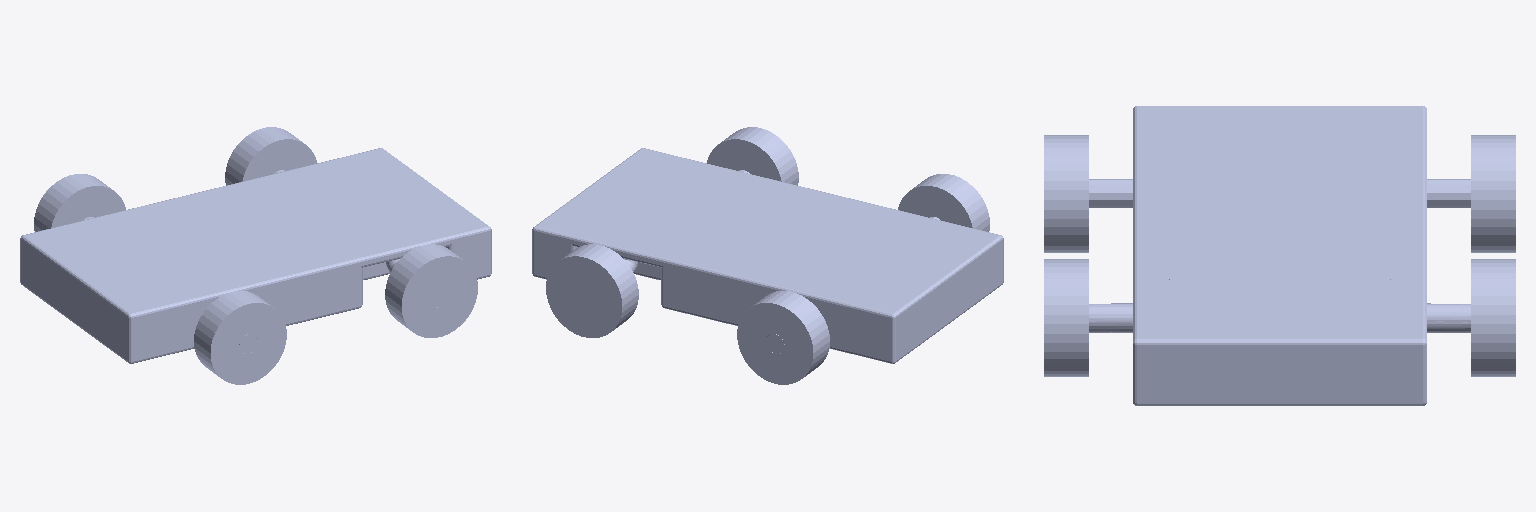
The robot description file, URDF, robot "robot_fourwheel":
<?xml version="1.0" encoding="utf-8"?>
<!-- This URDF was automatically created by SolidWorks to URDF Exporter! Originally created by [author] ([email redacted]) 
     Commit Version: 1.6.0-1-g15f4949  Build Version: 1.6.7594.29634
     For more information, please see http://wiki.ros.org/sw_urdf_exporter -->
<robot
  name="robot_fourwheel">

  <link name="dummy_link" />

  <joint name="dummy_link_joint" type="fixed">
    <parent link="dummy_link"/>
    <child link="base_link"/>
  </joint>
  <link
    name="base_link">
    <inertial>
      <origin
        xyz="0.0156756822833727 1.27707395769505E-08 0.0647698229985954"
        rpy="0 0 0" />
      <mass
        value="55.149112811909" />
      <inertia
        ixx="1.16284846332362"
        ixy="-2.7020450595447E-07"
        ixz="-0.0193921136203055"
        iyy="4.39098958696797"
        iyz="4.60720047587546E-08"
        izz="5.4001751110785" />
    </inertial>
    <visual>
      <origin
        xyz="0 0 0"
        rpy="0 0 0" />
      <geometry>
        <mesh
          filename="package://robot_fourwheel/meshes/base_link.STL" />
      </geometry>
      <material
        name="">
        <color
          rgba="0.792156862745098 0.819607843137255 0.933333333333333 1" />
      </material>
    </visual>
    <collision>
      <origin
        xyz="0 0 0"
        rpy="0 0 0" />
      <geometry>
        <mesh
          filename="package://robot_fourwheel/meshes/base_link.STL" />
      </geometry>
    </collision>
  </link>
  <link
    name="ra">
    <inertial>
      <origin
        xyz="1.1102E-16 -5.5511E-17 1.3878E-17"
        rpy="0 0 0" />
      <mass
        value="1.6474" />
      <inertia
        ixx="0.090962"
        ixy="3.1958E-16"
        ixz="-1.1648E-49"
        iyy="0.00053142"
        iyz="3.2863E-35"
        izz="0.090962" />
    </inertial>
    <visual>
      <origin
        xyz="0 0 0"
        rpy="0 0 0" />
      <geometry>
        <mesh
          filename="package://robot_fourwheel/meshes/ra.STL" />
      </geometry>
      <material
        name="">
        <color
          rgba="0.79216 0.81961 0.93333 1" />
      </material>
    </visual>
    <collision>
      <origin
        xyz="0 0 0"
        rpy="0 0 0" />
      <geometry>
        <mesh
          filename="package://robot_fourwheel/meshes/ra.STL" />
      </geometry>
    </collision>
  </link>
  <joint
    name="raj"
    type="continuous">
    <origin
      xyz="-0.21541 0 0.0635"
      rpy="0 0 0" />
    <parent
      link="base_link" />
    <child
      link="ra" />
    <axis
      xyz="0 -1 0" />
  </joint>
  <link
    name="rlw">
    <inertial>
      <origin
        xyz="1.1102E-16 -0.0381 0"
        rpy="0 0 0" />
      <mass
        value="2.3167" />
      <inertia
        ixx="0.0074731"
        ixy="-1.861E-17"
        ixz="-3.8054E-37"
        iyy="0.012704"
        iyz="1.964E-35"
        izz="0.0074731" />
    </inertial>
    <visual>
      <origin
        xyz="0 0 0"
        rpy="0 0 0" />
      <geometry>
        <mesh
          filename="package://robot_fourwheel/meshes/rlw.STL" />
      </geometry>
      <material
        name="">
        <color
          rgba="0.79216 0.81961 0.93333 1" />
      </material>
    </visual>
    <collision>
      <origin
        xyz="0 0 0"
        rpy="0 0 0" />
      <geometry>
        <mesh
          filename="package://robot_fourwheel/meshes/rlw.STL" />
      </geometry>
    </collision>
  </link>
  <joint
    name="rlwj"
    type="fixed">
    <origin
      xyz="0 0.4064 0"
      rpy="0 0 0" />
    <parent
      link="ra" />
    <child
      link="rlw" />
    <axis
      xyz="0 0 0" />
  </joint>
  <link
    name="rrw">
    <inertial>
      <origin
        xyz="-1.1102E-16 0.0381 1.3878E-17"
        rpy="0 0 0" />
      <mass
        value="2.3167" />
      <inertia
        ixx="0.0074731"
        ixy="-1.8619E-17"
        ixz="-3.8054E-37"
        iyy="0.012704"
        iyz="1.964E-35"
        izz="0.0074731" />
    </inertial>
    <visual>
      <origin
        xyz="0 0 0"
        rpy="0 0 0" />
      <geometry>
        <mesh
          filename="package://robot_fourwheel/meshes/rrw.STL" />
      </geometry>
      <material
        name="">
        <color
          rgba="0.79216 0.81961 0.93333 1" />
      </material>
    </visual>
    <collision>
      <origin
        xyz="0 0 0"
        rpy="0 0 0" />
      <geometry>
        <mesh
          filename="package://robot_fourwheel/meshes/rrw.STL" />
      </geometry>
    </collision>
  </link>
  <joint
    name="rrwj"
    type="fixed">
    <origin
      xyz="0 -0.4064 0"
      rpy="0 0 0" />
    <parent
      link="ra" />
    <child
      link="rrw" />
    <axis
      xyz="0 0 0" />
  </joint>
  <link
    name="fl">
    <inertial>
      <origin
        xyz="-5.5511E-17 0.080257 -0.05607"
        rpy="0 0 0" />
      <mass
        value="0.51846" />
      <inertia
        ixx="0.0025514"
        ixy="6.6174E-21"
        ixz="-1.6544E-21"
        iyy="0.00028983"
        iyz="0.00031095"
        izz="0.0024288" />
    </inertial>
    <visual>
      <origin
        xyz="0 0 0"
        rpy="0 0 0" />
      <geometry>
        <mesh
          filename="package://robot_fourwheel/meshes/fl.STL" />
      </geometry>
      <material
        name="">
        <color
          rgba="0.79216 0.81961 0.93333 1" />
      </material>
    </visual>
    <collision>
      <origin
        xyz="0 0 0"
        rpy="0 0 0" />
      <geometry>
        <mesh
          filename="package://robot_fourwheel/meshes/fl.STL" />
      </geometry>
    </collision>
  </link>
  <joint
    name="flj"
    type="continuous">
    <origin
      xyz="0.29259 0.2032 0.127"
      rpy="0 0 0" />
    <parent
      link="base_link" />
    <child
      link="fl" />
    <axis
      xyz="0 0 1" />
    <!-- <limit
      lower="-0.5"
      upper="0.5"
      effort="0"
      velocity="0" /> -->
  </joint>
  <link
    name="flw">
    <inertial>
      <origin
        xyz="1.3878E-16 -0.0381 1.3878E-17"
        rpy="0 0 0" />
      <mass
        value="2.3167" />
      <inertia
        ixx="0.0074731"
        ixy="-1.8094E-17"
        ixz="-3.8054E-37"
        iyy="0.012704"
        iyz="1.964E-35"
        izz="0.0074731" />
    </inertial>
    <visual>
      <origin
        xyz="0 0 0"
        rpy="0 0 0" />
      <geometry>
        <mesh
          filename="package://robot_fourwheel/meshes/flw.STL" />
      </geometry>
      <material
        name="">
        <color
          rgba="0.79216 0.81961 0.93333 1" />
      </material>
    </visual>
    <collision>
      <origin
        xyz="0 0 0"
        rpy="0 0 0" />
      <geometry>
        <mesh
          filename="package://robot_fourwheel/meshes/flw.STL" />
      </geometry>
    </collision>
  </link>
  <joint
    name="flwj"
    type="continuous">
    <origin
      xyz="0 0.2032 -0.0635"
      rpy="0 0 0" />
    <parent
      link="fl" />
    <child
      link="flw" />
    <axis
      xyz="0 -1 0" />
  </joint>
  <link
    name="fr">
    <inertial>
      <origin
        xyz="-5.8287E-16 -0.080257 -0.05607"
        rpy="0 0 0" />
      <mass
        value="0.51846" />
      <inertia
        ixx="0.0025514"
        ixy="-1.5753E-17"
        ixz="-2.1429E-18"
        iyy="0.00028983"
        iyz="-0.00031095"
        izz="0.0024288" />
    </inertial>
    <visual>
      <origin
        xyz="0 0 0"
        rpy="0 0 0" />
      <geometry>
        <mesh
          filename="package://robot_fourwheel/meshes/fr.STL" />
      </geometry>
      <material
        name="">
        <color
          rgba="0.79216 0.81961 0.93333 1" />
      </material>
    </visual>
    <collision>
      <origin
        xyz="0 0 0"
        rpy="0 0 0" />
      <geometry>
        <mesh
          filename="package://robot_fourwheel/meshes/fr.STL" />
      </geometry>
    </collision>
  </link>
  <joint
    name="frj"
    type="continuous">
    <origin
      xyz="0.29259 -0.2032 0.127"
      rpy="0 0 0" />
    <parent
      link="base_link" />
    <child
      link="fr" />
    <axis
      xyz="0 0 1" />
    <!-- <limit
      lower="-0.5"
      upper="0.5"
      effort="0"
      velocity="0" /> -->
  </joint>
  <link
    name="frw">
    <inertial>
      <origin
        xyz="-8.3267E-17 0.0381 -1.3878E-17"
        rpy="0 0 0" />
      <mass
        value="2.3167" />
      <inertia
        ixx="0.0074731"
        ixy="-1.8102E-17"
        ixz="-3.8054E-37"
        iyy="0.012704"
        iyz="1.964E-35"
        izz="0.0074731" />
    </inertial>
    <visual>
      <origin
        xyz="0 0 0"
        rpy="0 0 0" />
      <geometry>
        <mesh
          filename="package://robot_fourwheel/meshes/frw.STL" />
      </geometry>
      <material
        name="">
        <color
          rgba="0.79216 0.81961 0.93333 1" />
      </material>
    </visual>
    <collision>
      <origin
        xyz="0 0 0"
        rpy="0 0 0" />
      <geometry>
        <mesh
          filename="package://robot_fourwheel/meshes/frw.STL" />
      </geometry>
    </collision>
  </link>
  <joint
    name="frwj"
    type="continuous">
    <origin
      xyz="0 -0.2032 -0.0635"
      rpy="0 0 0" />
    <parent
      link="fr" />
    <child
      link="frw" />
    <axis
      xyz="0 -1 0" />
  </joint>
  
  <gazebo>
		<plugin name="gazebo_ros_control" filename="libgazebo_ros_control.so">
			<robotNamespace>/robot_fourwheel</robotNamespace>
			<robotSimType>gazebo_ros_control/DefaultRobotHWSim</robotSimType>
			<legacyModeNS>true</legacyModeNS>
		</plugin>
	</gazebo>
	
  
  <transmission name="tran1">
    <type>transmission_interface/SimpleTransmission</type>
    <joint name="raj">
      <hardwareInterface>hardware_interface/VelocityJointInterface</hardwareInterface>
    </joint>
    <actuator name="motor1">
      <hardwareInterface>hardware_interface/VelocityJointInterface</hardwareInterface>
      <mechanicalReduction>1</mechanicalReduction>
    </actuator>
  </transmission>

  <transmission name="tran1">
    <type>transmission_interface/SimpleTransmission</type>
    <joint name="flj">
      <hardwareInterface>hardware_interface/EffortJointInterface</hardwareInterface>
    </joint>
    <actuator name="motor2">
      <hardwareInterface>hardware_interface/EffortJointInterface</hardwareInterface>
      <mechanicalReduction>1</mechanicalReduction>
    </actuator>
  </transmission>

  <transmission name="tran1">
    <type>transmission_interface/SimpleTransmission</type>
    <joint name="frj">
      <hardwareInterface>hardware_interface/EffortJointInterface</hardwareInterface>
    </joint>
    <actuator name="motor3">
      <hardwareInterface>hardware_interface/EffortJointInterface</hardwareInterface>
      <mechanicalReduction>1</mechanicalReduction>
    </actuator>
  </transmission>
</robot>

--- Facts derived from the render (not from the file) ---
Views: 3 orthographic renders of the robot side by side, from view 1: azimuth 30°, elevation 25°; view 2: azimuth 150°, elevation 25°; view 3: azimuth 270°, elevation 25°.
Robot: robot_fourwheel — 9 links, 8 joints (5 continuous, 3 fixed); root link dummy_link; default pose: every joint at zero.
Visible links, largest first — view 1: base_link, frw, rrw, rlw, flw, fr; view 2: base_link, rlw, flw, rrw, frw, fl; view 3: base_link, rlw, rrw, flw, frw, ra, fr, fl.
Link boxes in pixels (box(x1,y1,x2,y2)): base_link: box(20, 148, 491, 363); frw: box(385, 244, 477, 337); rrw: box(194, 291, 286, 384); rlw: box(34, 174, 125, 231); flw: box(225, 127, 316, 185); fr: box(385, 235, 448, 306); base_link: box(532, 148, 1003, 363); rlw: box(737, 291, 829, 384); flw: box(546, 244, 638, 337); rrw: box(898, 174, 989, 231); frw: box(707, 127, 798, 185); fl: box(575, 235, 638, 307); base_link: box(1133, 106, 1426, 405); rlw: box(1471, 135, 1515, 252); rrw: box(1044, 135, 1088, 252); flw: box(1471, 259, 1515, 376); frw: box(1044, 259, 1088, 376); ra: box(1089, 179, 1470, 207); fr: box(1089, 279, 1176, 332); fl: box(1383, 279, 1470, 332).
Bounding box of the posed robot: 0.9652 × 0.8128 × 0.2025 m (x, y, z).
Meshes: 8 distinct files referenced, 8 mesh visuals loaded (8 binary STL).
